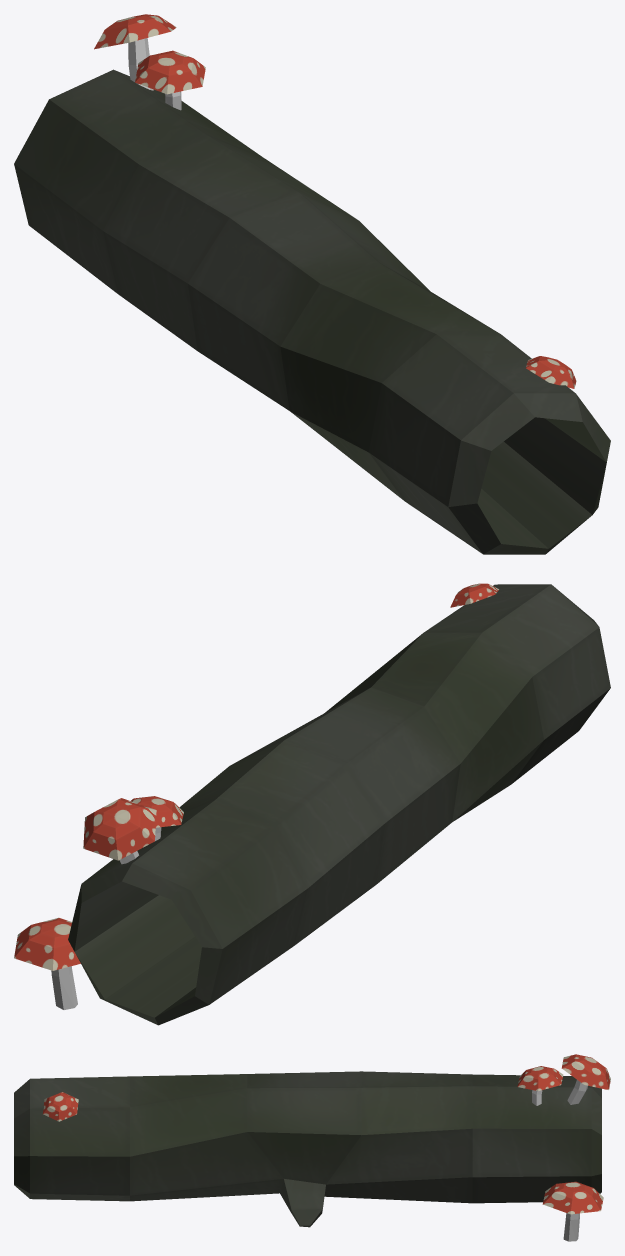
The model's file is Fallen Tree with Mushroom.fbx.
3 renders of one model, top to bottom at view 1: azimuth 30°, elevation 25°; view 2: azimuth 150°, elevation 25°; view 3: azimuth 270°, elevation 25°, orthographic. The views are drawn at different scales.
Visible parts, largest first — view 1: Cylinder001, Cylinder020, Cylinder005; view 2: Cylinder001, Cylinder020, Cylinder005; view 3: Cylinder001, Cylinder020, Cylinder005.
Part boxes in pixels (left/top/right/bottom): Cylinder001: left=14, top=69, right=610, bottom=554; Cylinder020: left=94, top=14, right=576, bottom=388; Cylinder005: left=128, top=38, right=181, bottom=110; Cylinder001: left=68, top=584, right=610, bottom=1025; Cylinder020: left=14, top=583, right=498, bottom=970; Cylinder005: left=51, top=827, right=161, bottom=1009; Cylinder001: left=14, top=1071, right=601, bottom=1227; Cylinder020: left=43, top=1054, right=610, bottom=1214; Cylinder005: left=532, top=1080, right=587, bottom=1241.
Size of the model in its own units: 27.73 by 26.48 by 90.07.
